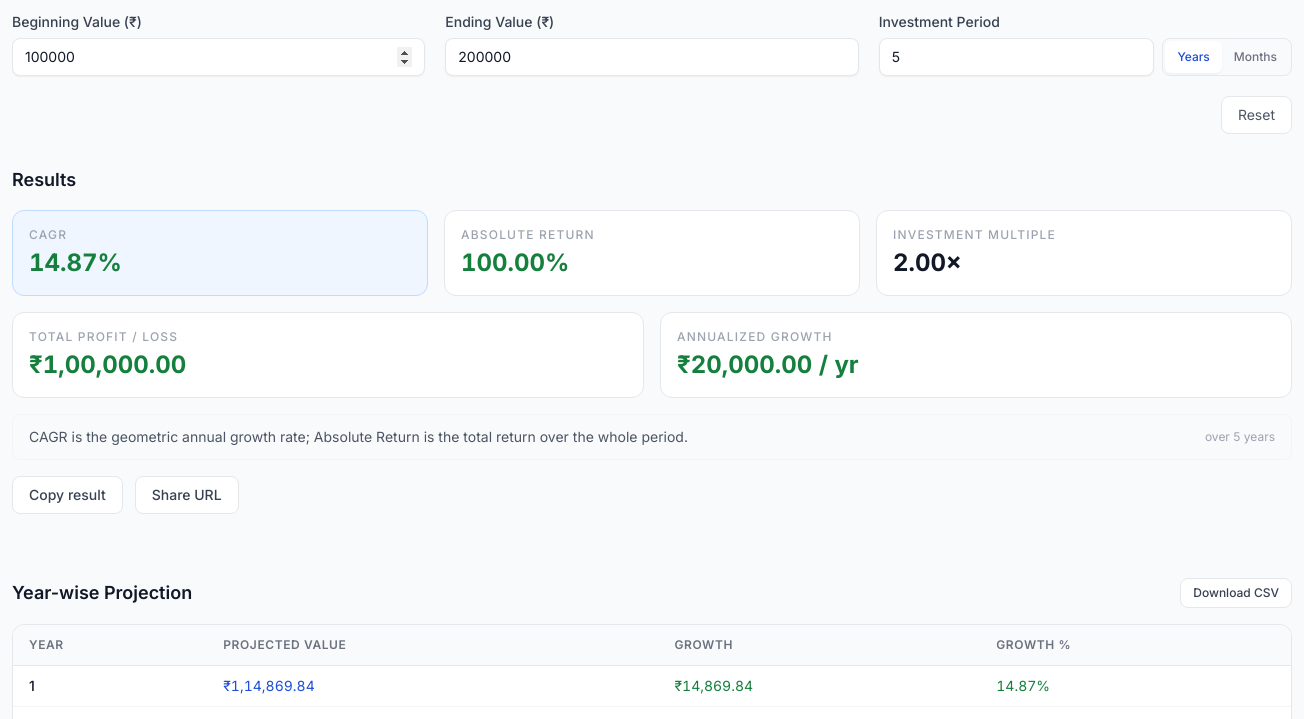
Test case: CAGRCalculator › shows error when ending value is negative
Replace the text in the number field labelled "Ending Value (₹)" with "-100" at point(652, 57), box [445,38,859,76]
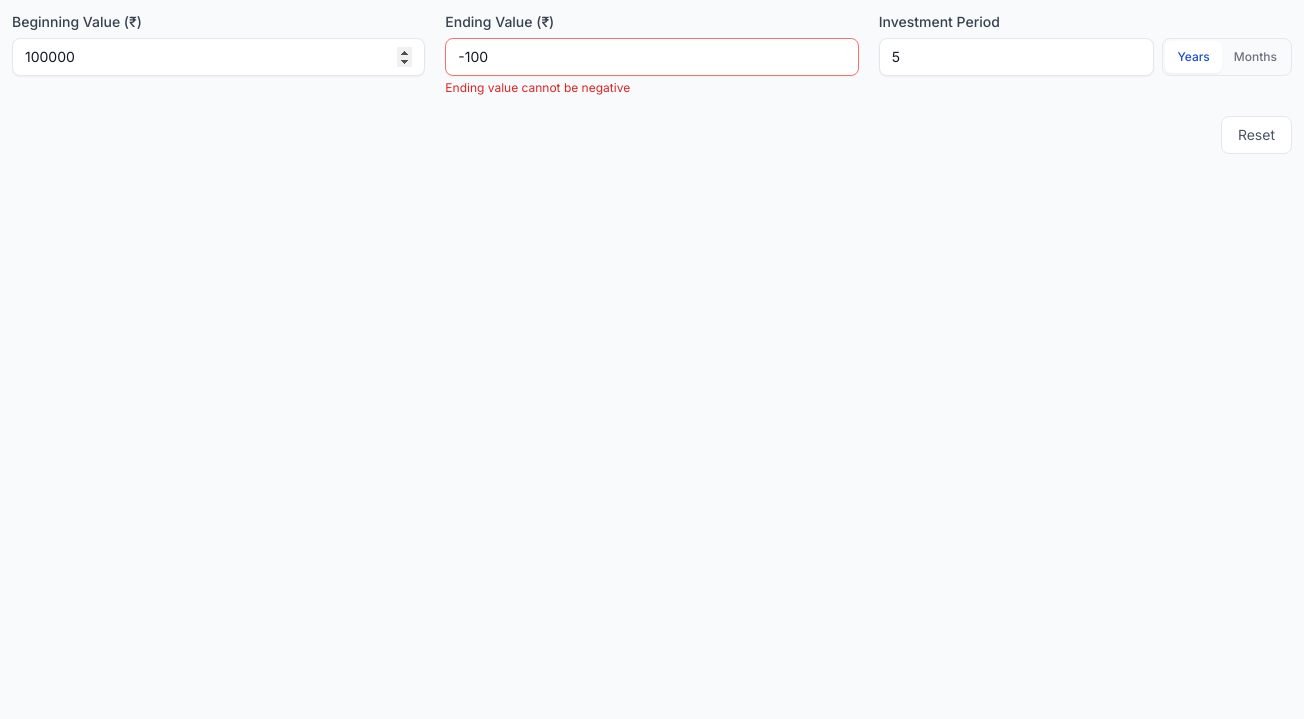
Check: the text "Ending value cannot be negative" is shown, box [445,80,630,95]
